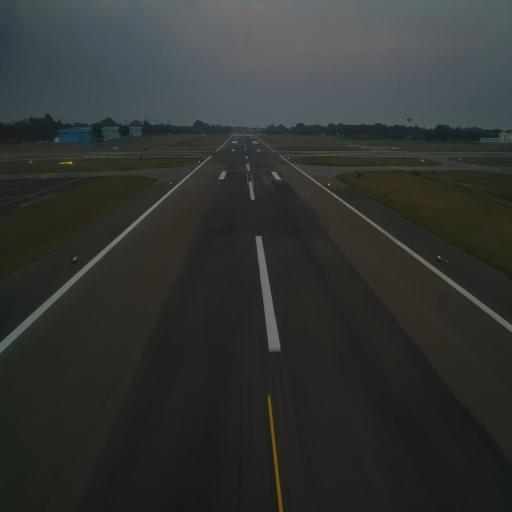on: (72, 253, 78, 266), (437, 254, 444, 263), (326, 181, 331, 188), (170, 180, 172, 187)
